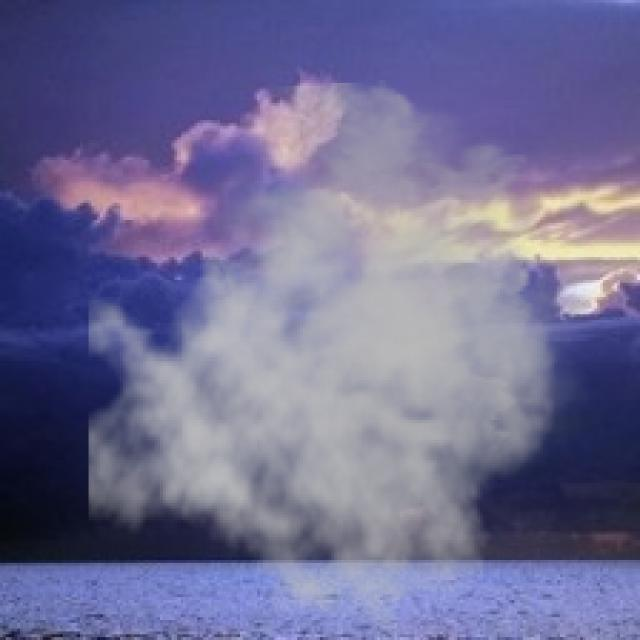smoke: (89, 80, 606, 637)
